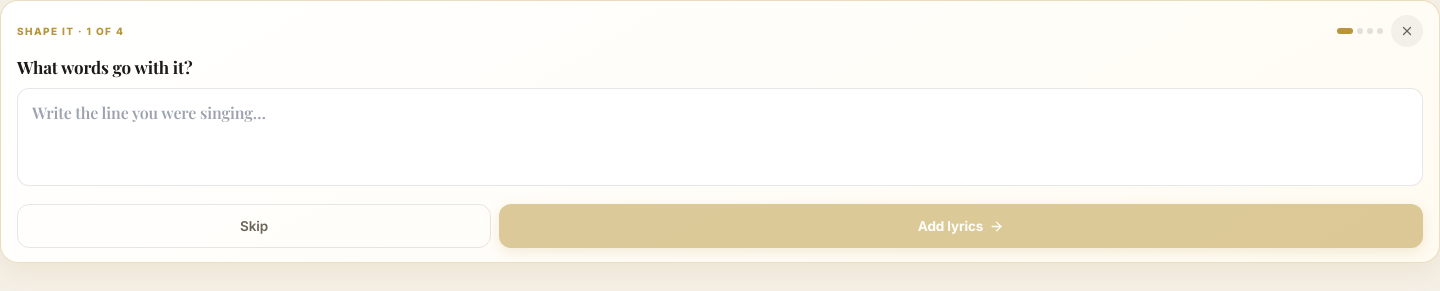
Test: GuidedShapeRail — the guided path from a fresh idea to its home › step 1 asks for the words; adding fires onAddLyrics and advances
The image size is (1440, 291).
Expected: the text "What words go with it?" is shown, [17,56,192,78]
In the text box named "lyrics for this idea": (720, 137) [17,88,1423,186], type "Grace like rain"
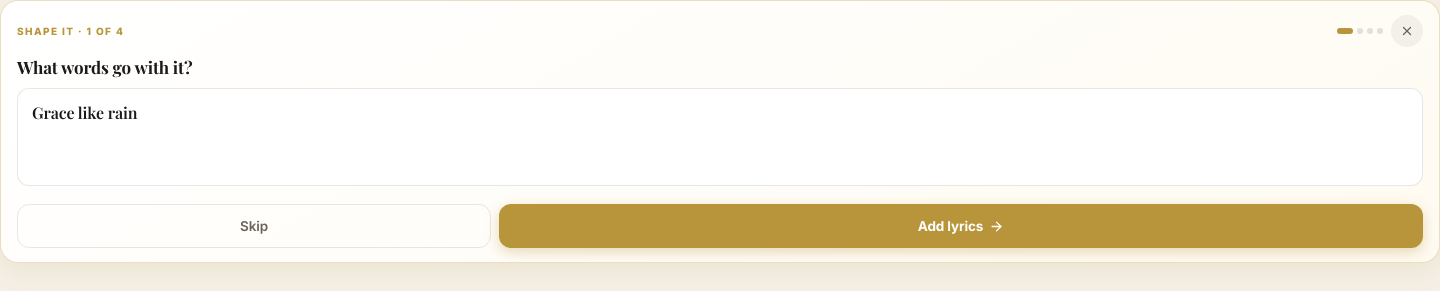
Click the button "Add lyrics": (961, 226) [499,204,1423,248]
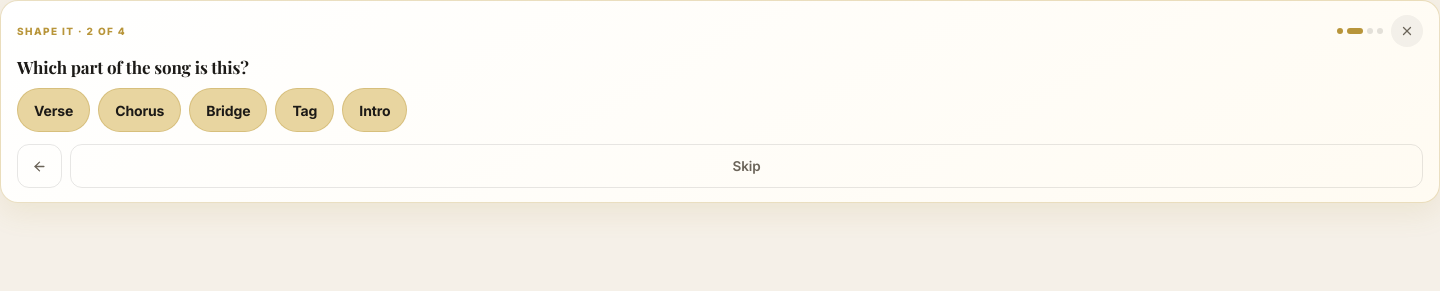
Expected: the text "Shape it · 2 of 4" is shown, [17,24,126,36]
